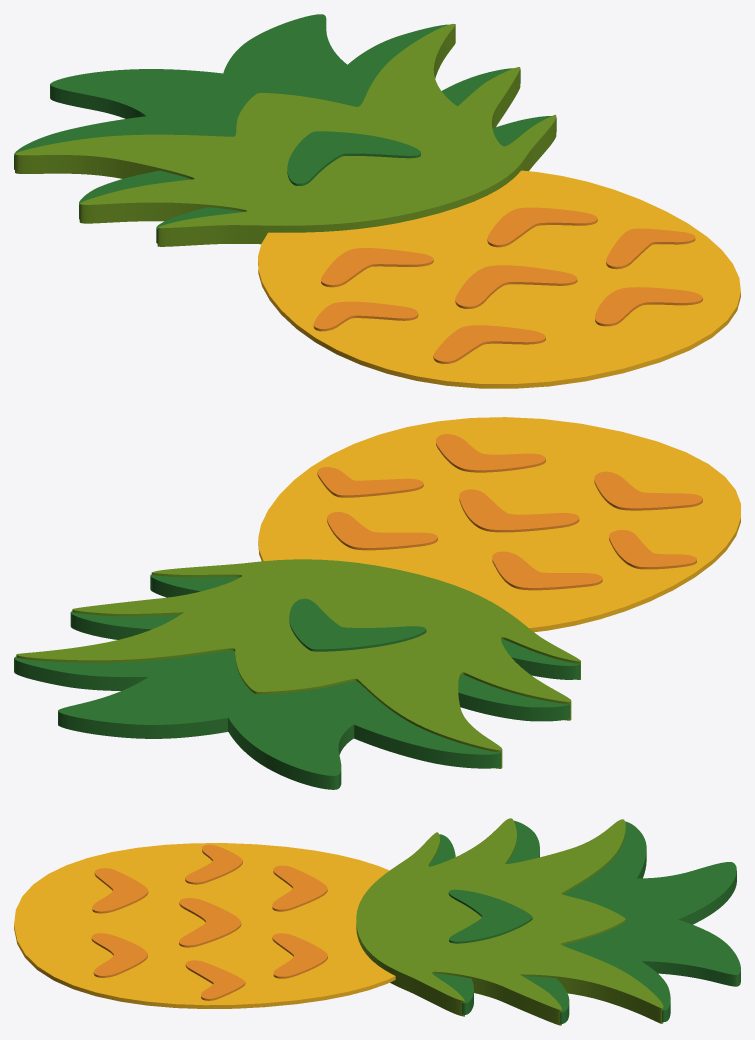
The model's file is emoji_u1f34d.glb.
3 views of the same model, one above another, from view 1: azimuth 30°, elevation 25°; view 2: azimuth 150°, elevation 25°; view 3: azimuth 270°, elevation 25° (orthographic). The views are drawn at different scales.
Parts seen in each view (by area): view 1: emoji_u1f34d; view 2: emoji_u1f34d; view 3: emoji_u1f34d.
Part boxes in pixels (x1,y1,x2,y2): emoji_u1f34d: [14, 14, 740, 388]; emoji_u1f34d: [14, 417, 740, 789]; emoji_u1f34d: [14, 818, 740, 1025].
Size of the model in its own units: 0.0211 by 0.001 by 0.0338.
